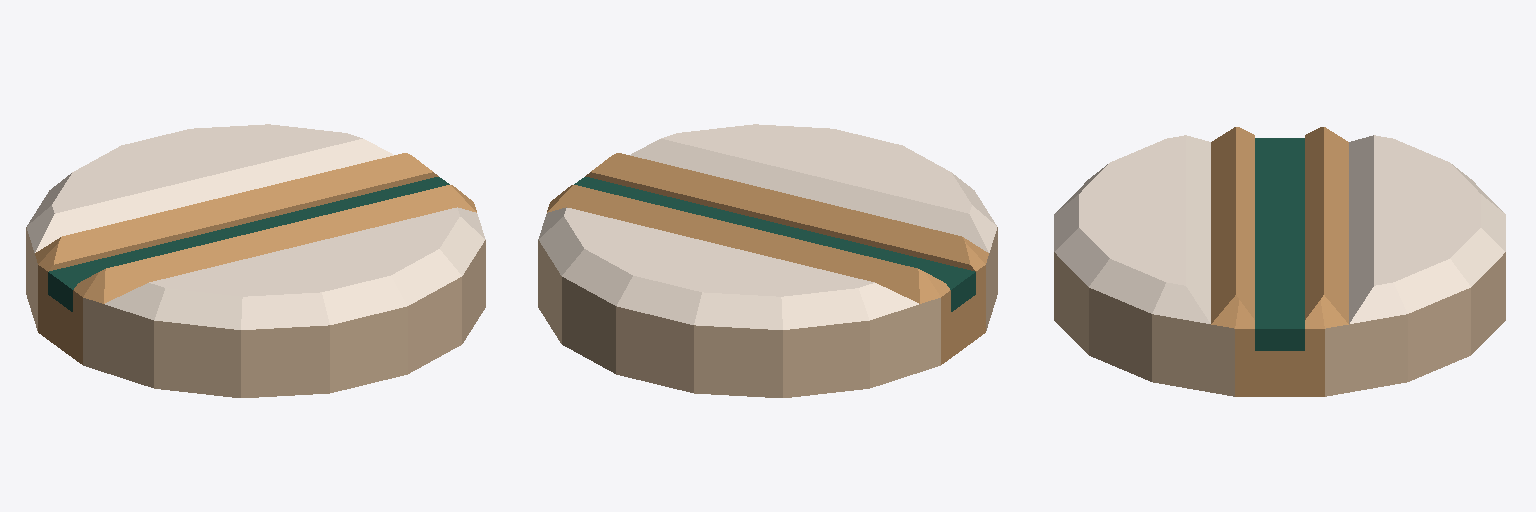
Rendered from Puzzle_Floor_Conduit_Rotating_Platform_Straight.obj.
3 views of the same model, side by side, from view 1: azimuth 30°, elevation 25°; view 2: azimuth 150°, elevation 25°; view 3: azimuth 270°, elevation 25° (orthographic).
Visible parts, largest first — view 1: object2, object1; view 2: object2, object1; view 3: object2, object1.
Part boxes in pixels (bbox=[...]): object2: bbox=[26, 124, 485, 397]; object1: bbox=[48, 177, 449, 311]; object2: bbox=[538, 124, 997, 397]; object1: bbox=[574, 177, 975, 311]; object2: bbox=[1054, 127, 1505, 396]; object1: bbox=[1255, 138, 1304, 350].
Bounding box in the file's own units: 0.9 × 0.2 × 0.9.